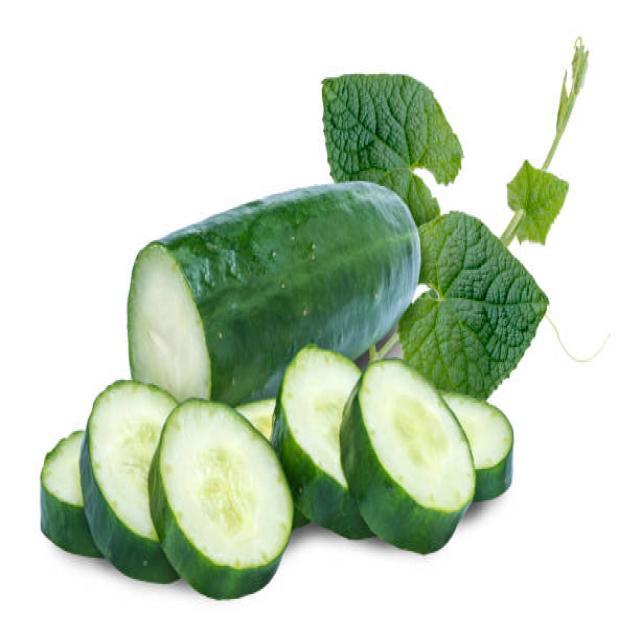cucumber: (127, 182, 421, 408)
